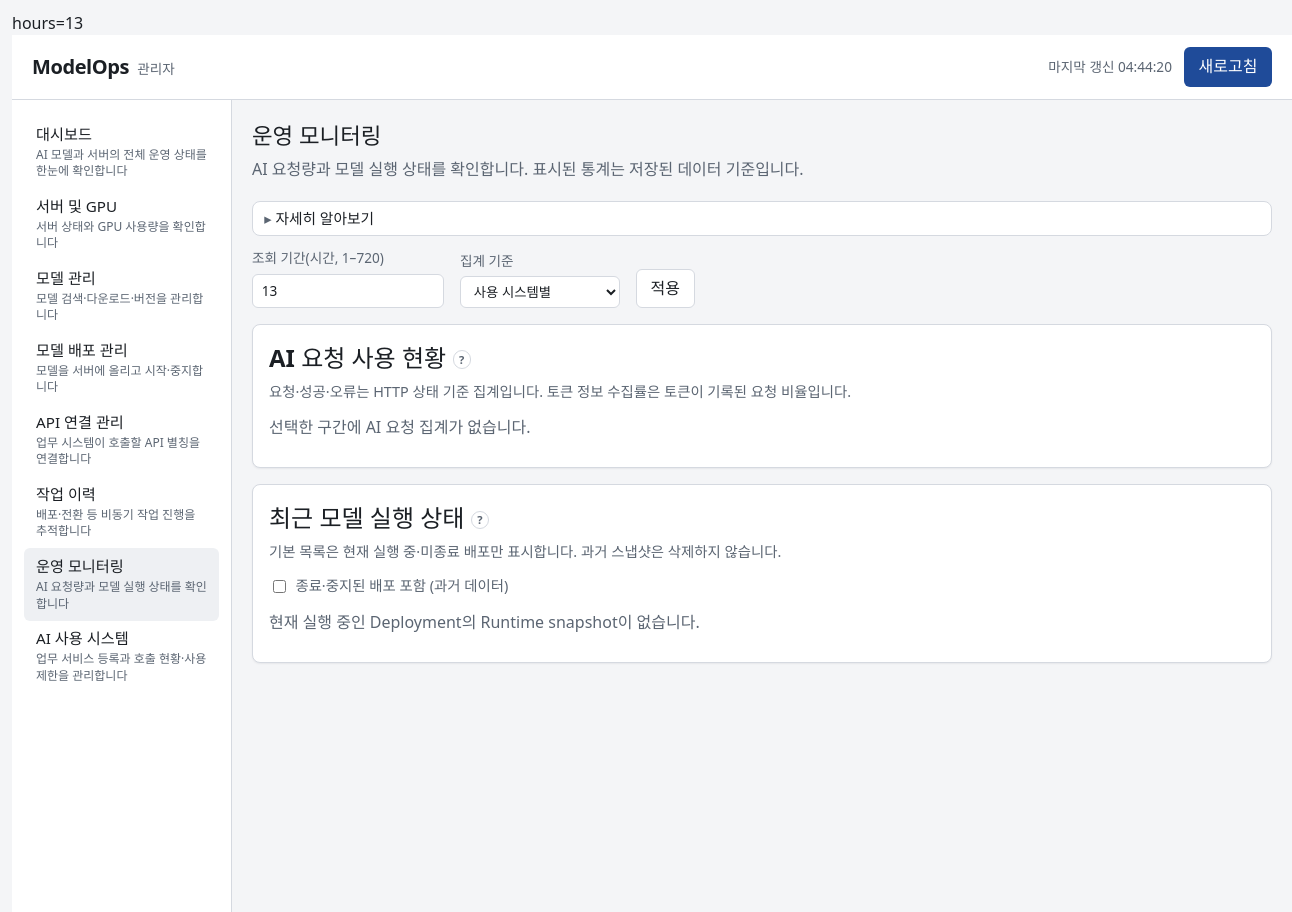
Scenario: ObservabilityPage › applies arbitrary valid hours through number control
expect the text with test id "location-search" reads "hours=13": met, box [12,12,83,34]
Replace the text in the number field named "Hours" with "37": (348, 291) [252,274,444,308]
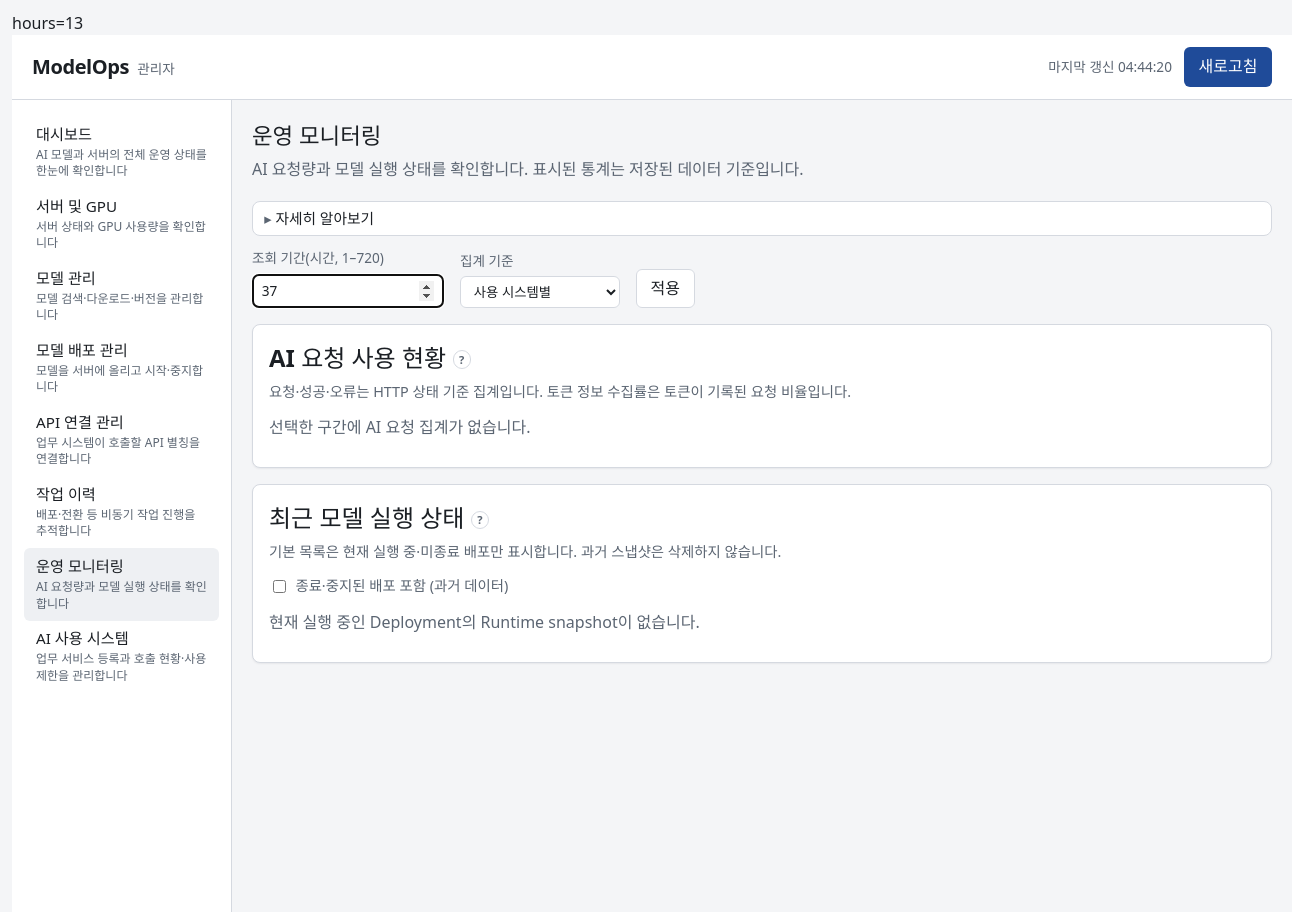
Click the button "적용": (665, 288) [636,269,695,308]
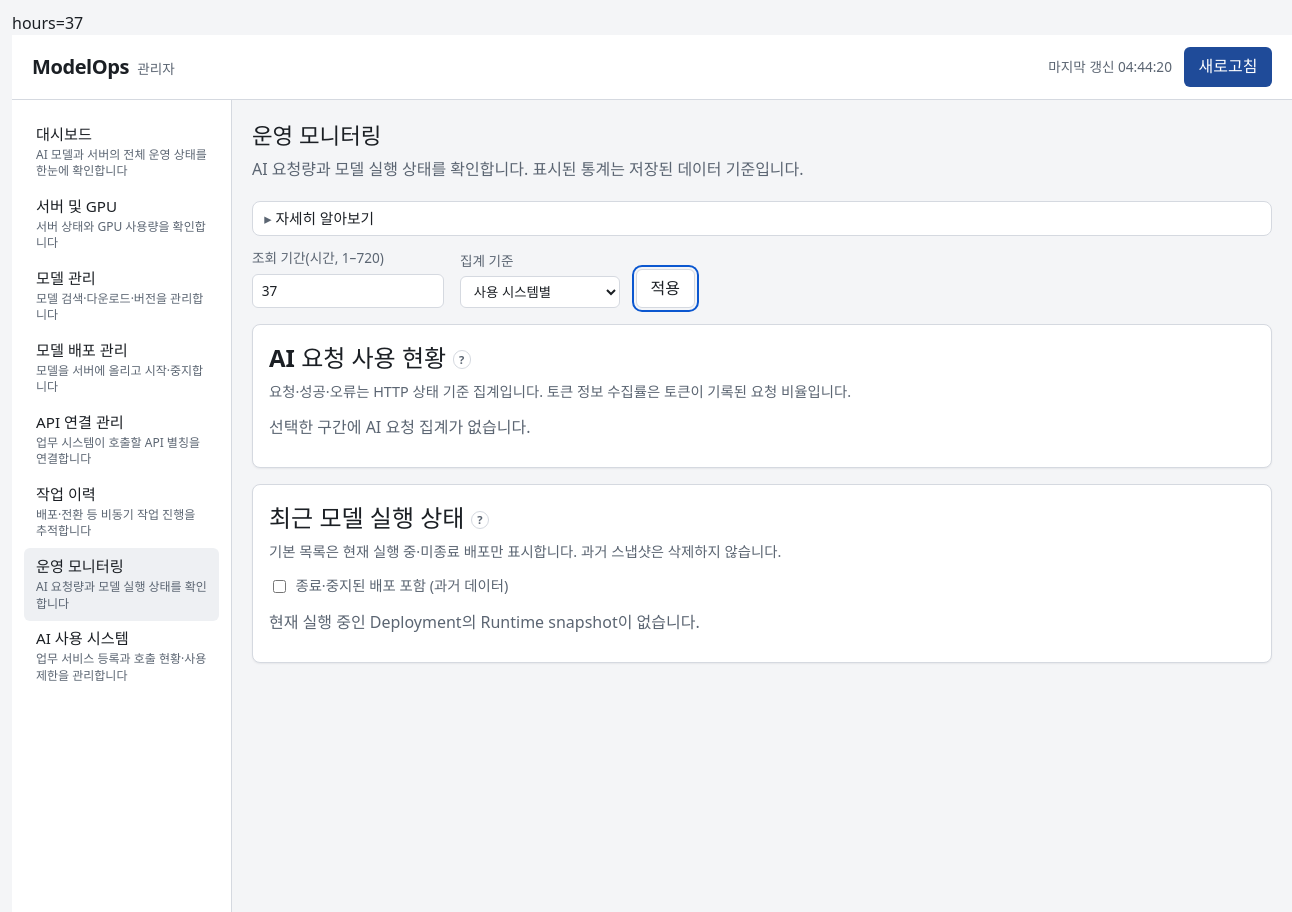
expect the text with test id "location-search" reads "hours=37": met, box [12,12,83,34]
